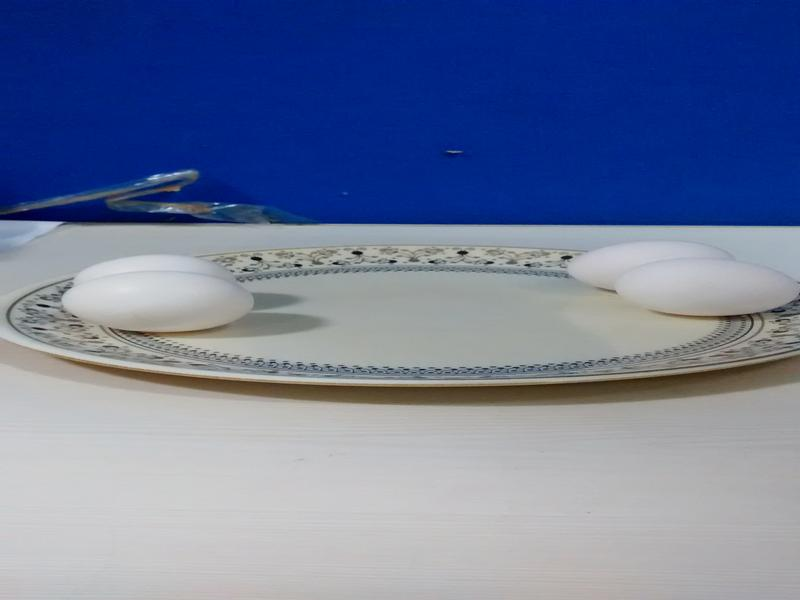egg: (56, 273, 260, 328)
